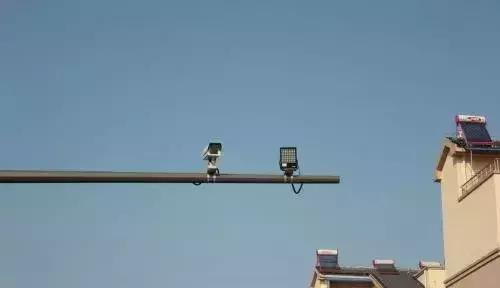camera: (201, 140, 223, 178)
